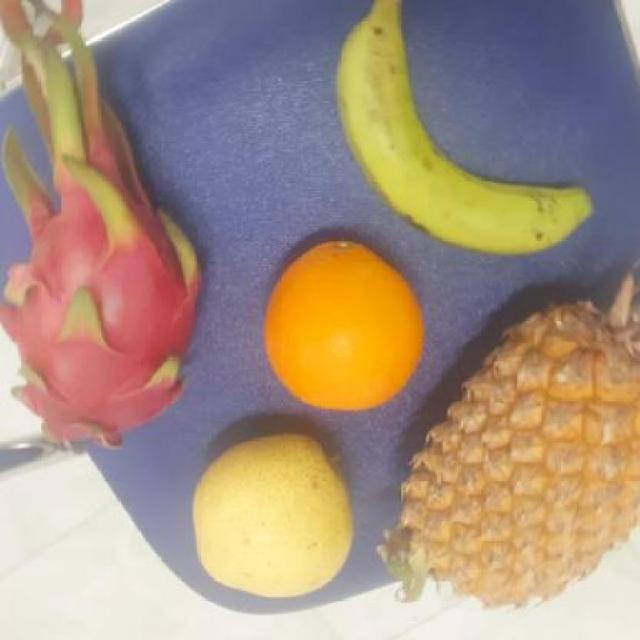banana: (333, 0, 582, 255)
dragon fruit: (0, 165, 200, 443)
oren: (259, 240, 423, 411)
pear: (188, 438, 363, 604)
pineapple: (393, 294, 639, 609)
